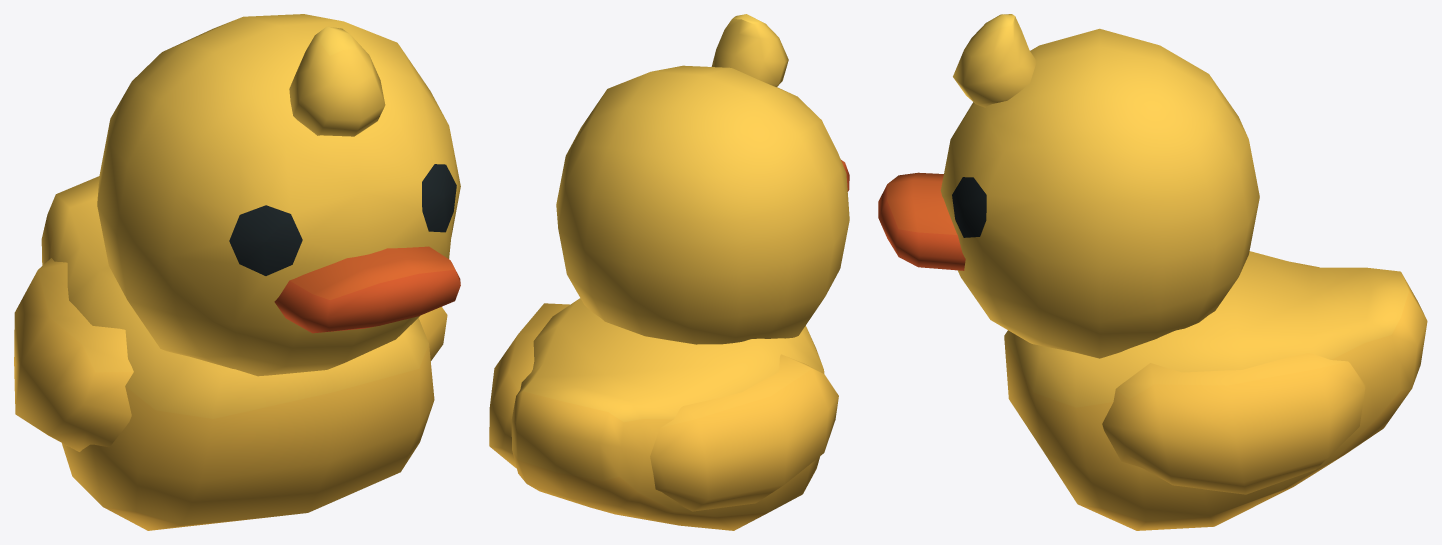
The model's file is Rubber_Duck.fbx.
3 views of the same model, side by side, from view 1: azimuth 30°, elevation 25°; view 2: azimuth 150°, elevation 25°; view 3: azimuth 270°, elevation 25° (orthographic). The views are drawn at different scales.
Visible parts, largest first — view 1: ducky; view 2: ducky; view 3: ducky.
Boxes of the visible parts, x1,y1,x2,y2 form: ducky: [14, 14, 460, 530]; ducky: [489, 14, 849, 530]; ducky: [878, 14, 1427, 530].
Size of the model in its own units: 29.83 by 42.09 by 40.3.
